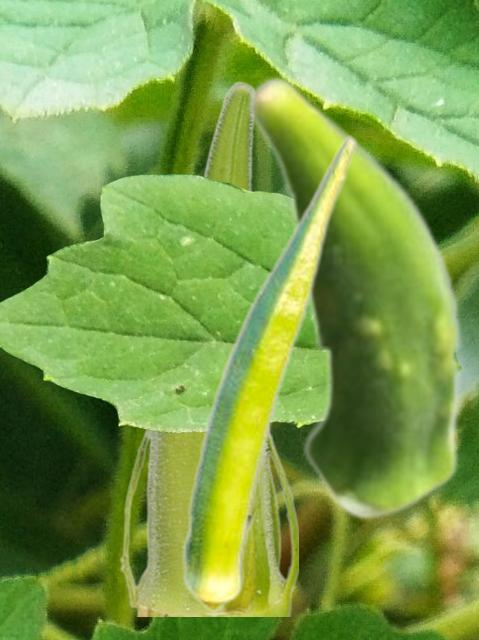okra: (245, 74, 465, 520), (117, 80, 297, 615), (182, 134, 357, 612)
